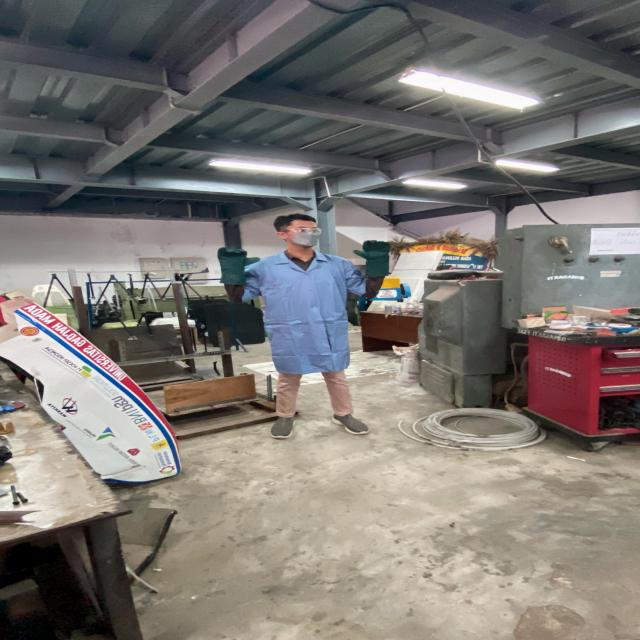face_mask: (287, 226, 324, 248)
glasses: (276, 225, 326, 236)
hand_glove: (214, 245, 266, 270), (351, 236, 398, 262)
head_nohelmet: (272, 211, 321, 227)
person: (208, 213, 398, 444)
shoes: (326, 408, 374, 436), (263, 411, 303, 442)
